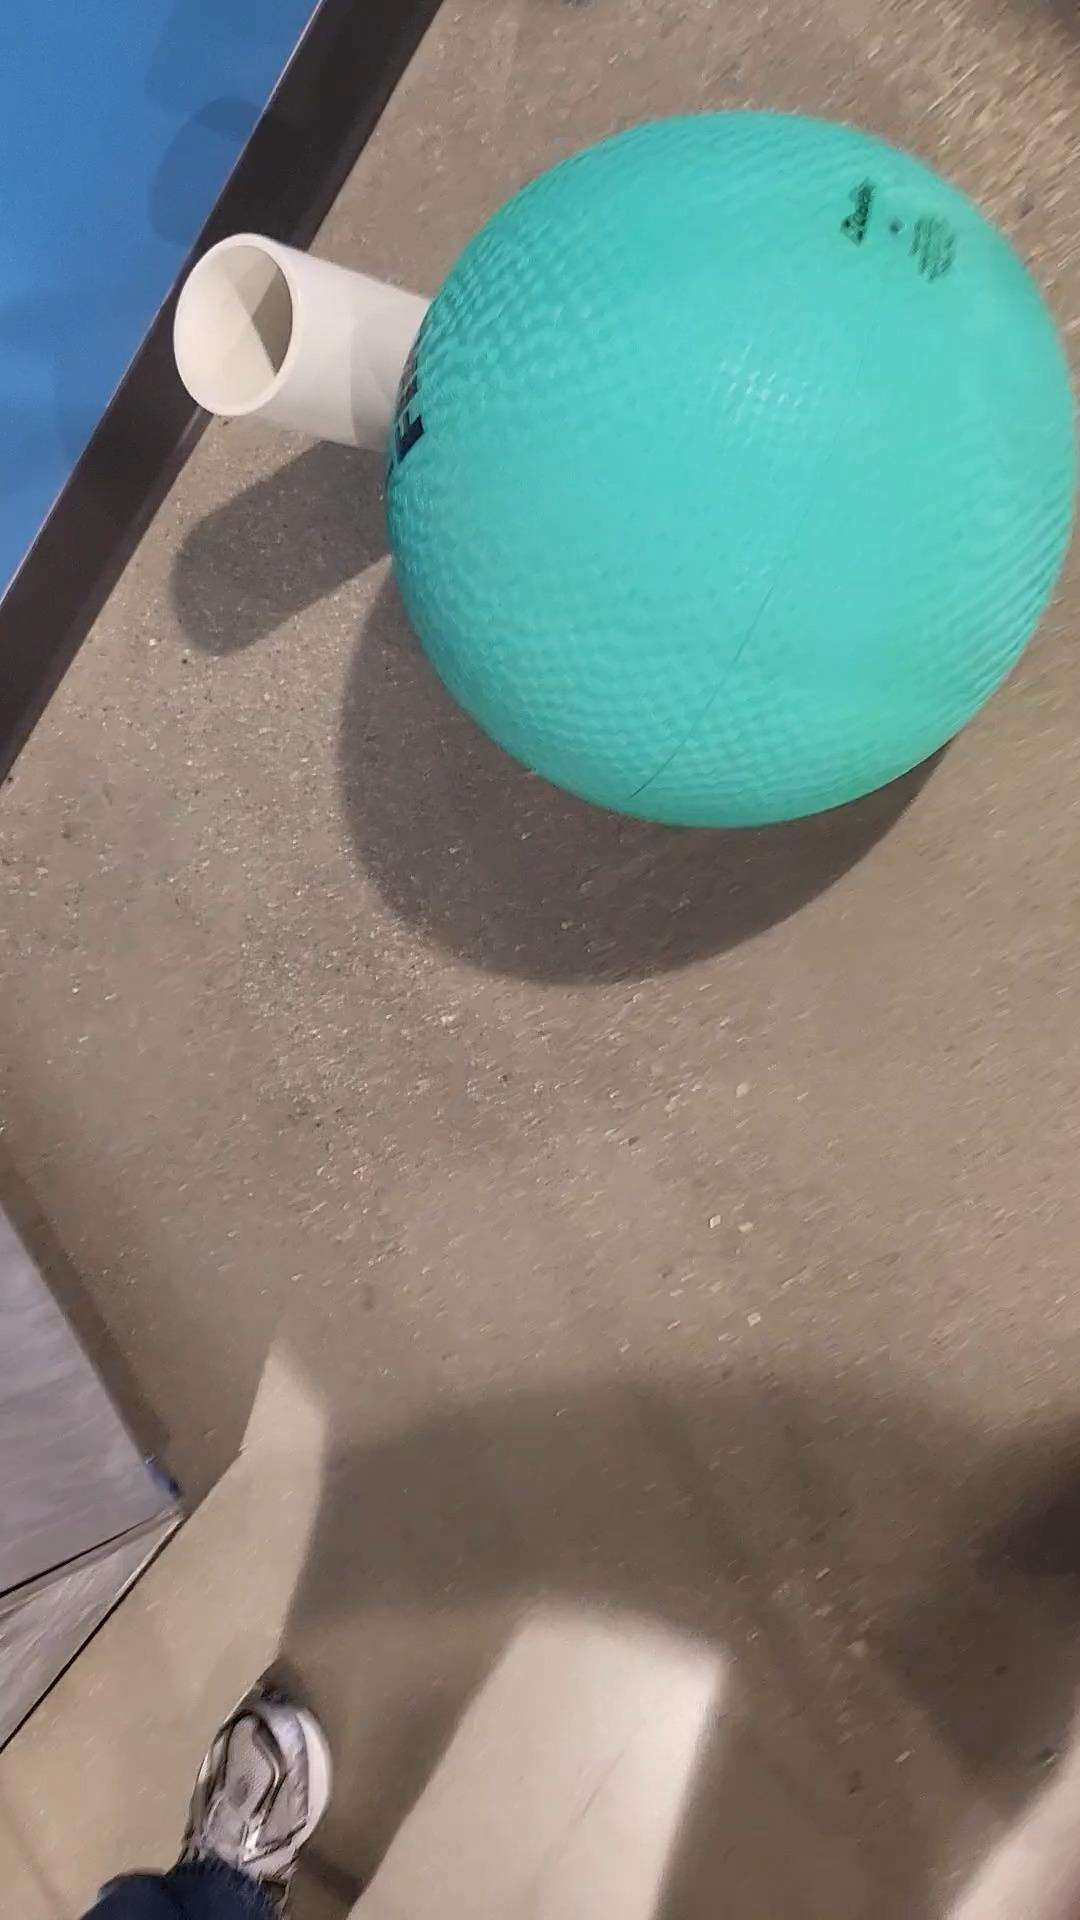algae: (380, 112, 1079, 825)
coral: (172, 232, 430, 458)
